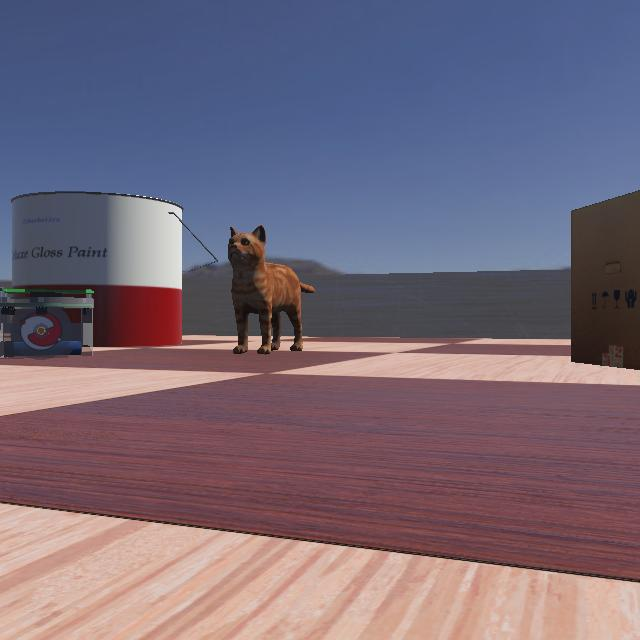cardboard-box: (569, 172, 639, 376)
cat: (218, 220, 316, 356), (218, 220, 316, 356), (218, 220, 316, 356)
paint-bucket: (1, 190, 226, 348), (1, 190, 226, 348)
